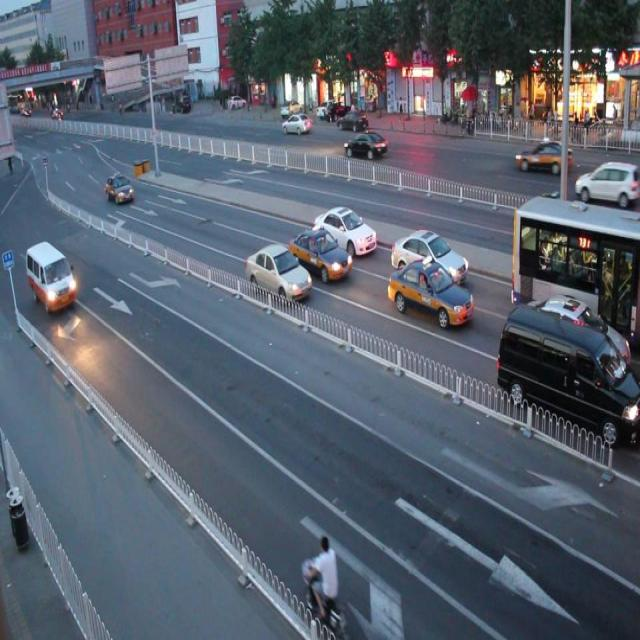car: (516, 294, 628, 392), (388, 260, 474, 330), (390, 228, 467, 283), (245, 244, 310, 302), (291, 228, 351, 282), (574, 160, 640, 204), (315, 206, 375, 254), (523, 190, 577, 234), (514, 138, 571, 173), (342, 130, 386, 159)
truck: (496, 300, 640, 446), (27, 239, 78, 312)
van: (510, 193, 640, 350)
